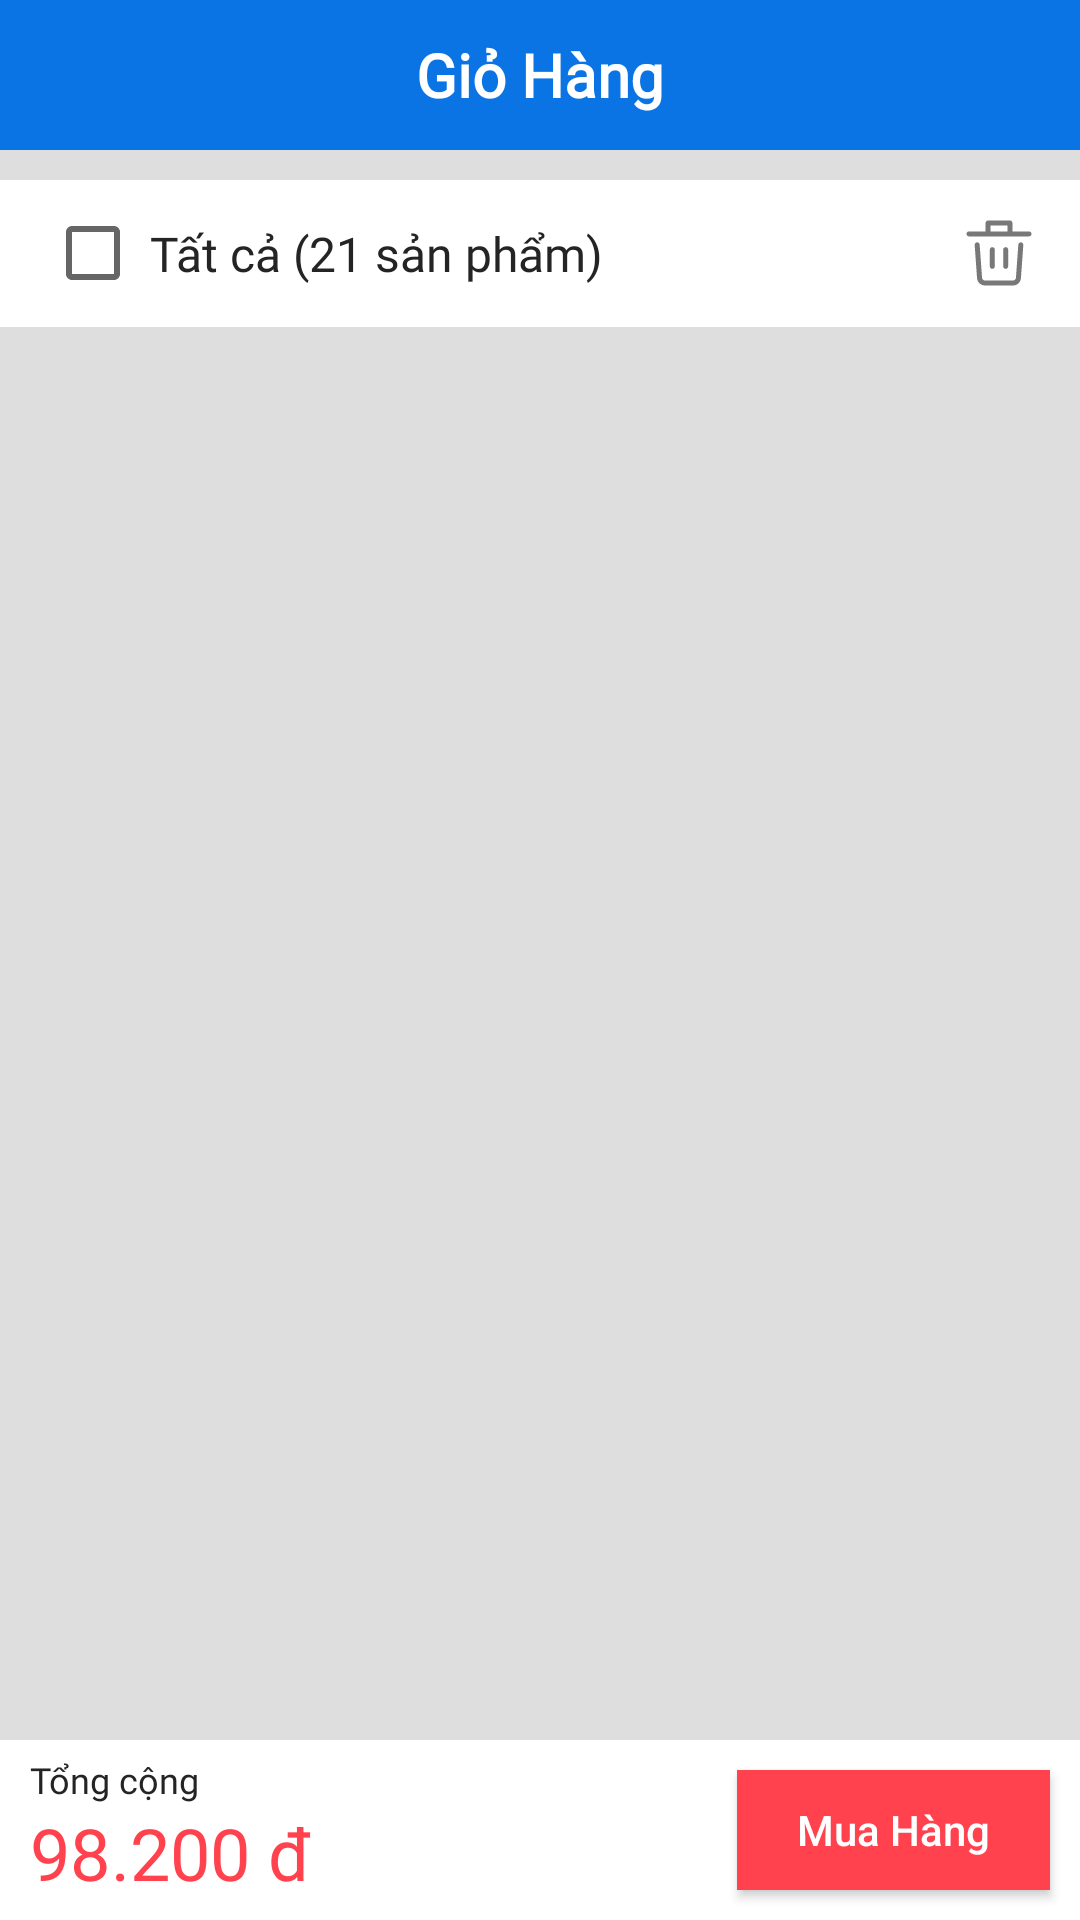

Named icons in this screenshot (1080*1920) and their centers, (x=x, y=y):
remove trash bin: (x=999, y=253)
